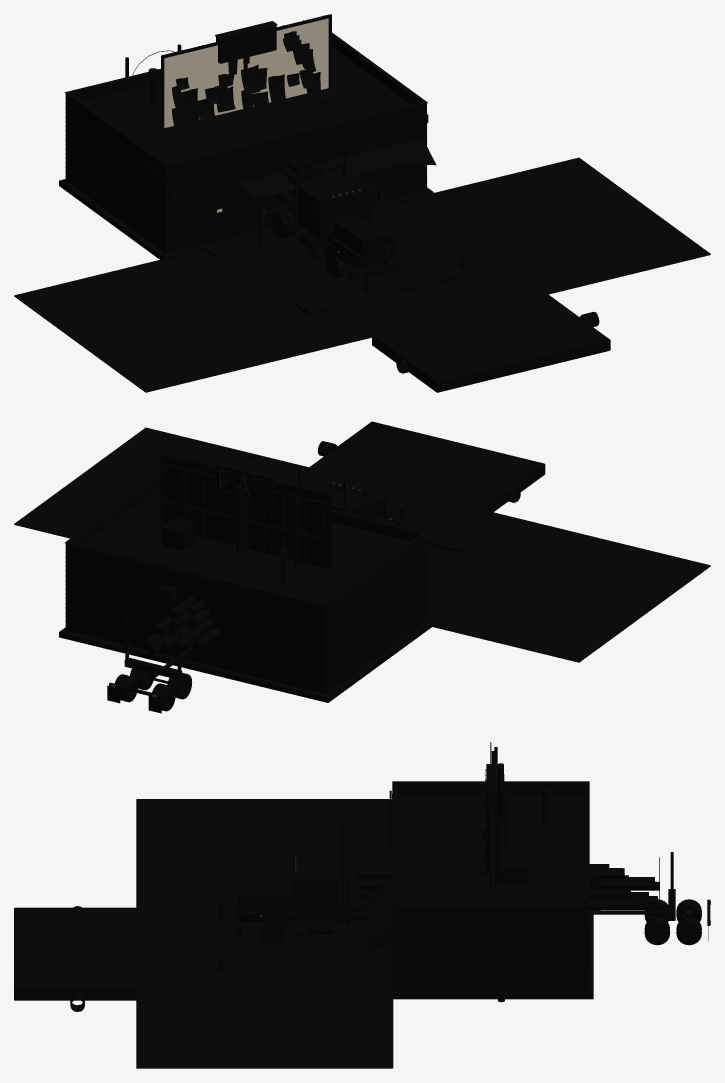
File: props_road.glb
3 views of the same model, one above another, from view 1: azimuth 30°, elevation 25°; view 2: azimuth 150°, elevation 25°; view 3: azimuth 270°, elevation 25° (orthographic). The views are drawn at different scales.
Parts seen in each view (by area): view 1: P_RC9_DINER-diner, P_RC9_TRUCK-logging_truck, P_RC9_BILLBOARD-billboard-face, P_RC9_BILLBOARD-billboard-peel, P_RC9_EAT-eat_sign, P_RC9_BILLBOARD-billboard, P_RC9_TRUCK-logging_truck-logs; view 2: P_RC9_DINER-diner, P_RC9_BILLBOARD-billboard, P_RC9_TRUCK-logging_truck, P_RC9_TRUCK-logging_truck-logs, P_RC9_EAT-eat_sign, P_RC9_TRUCK-logging_truck-axle_5, P_RC9_TRUCK-logging_truck-axle_4; view 3: P_RC9_DINER-diner, P_RC9_TRUCK-logging_truck, P_RC9_TRUCK-logging_truck-logs, P_RC9_BILLBOARD-billboard, P_RC9_TRUCK-logging_truck-axle_5, P_RC9_TRUCK-logging_truck-axle_4, P_RC9_TRUCK-logging_truck-axle_1.
Boxes of the visible parts, <box> form: P_RC9_DINER-diner: <box>14,32,710,392</box>; P_RC9_TRUCK-logging_truck: <box>125,44,403,280</box>; P_RC9_BILLBOARD-billboard-face: <box>164,18,328,127</box>; P_RC9_BILLBOARD-billboard-peel: <box>172,31,320,127</box>; P_RC9_EAT-eat_sign: <box>215,21,277,103</box>; P_RC9_BILLBOARD-billboard: <box>161,14,331,134</box>; P_RC9_TRUCK-logging_truck-logs: <box>273,156,326,208</box>; P_RC9_DINER-diner: <box>14,421,710,702</box>; P_RC9_BILLBOARD-billboard: <box>161,454,331,570</box>; P_RC9_TRUCK-logging_truck: <box>107,469,403,713</box>; P_RC9_TRUCK-logging_truck-logs: <box>142,596,219,655</box>; P_RC9_EAT-eat_sign: <box>215,461,277,549</box>; P_RC9_TRUCK-logging_truck-axle_5: <box>114,674,175,711</box>; P_RC9_TRUCK-logging_truck-axle_4: <box>130,668,192,699</box>; P_RC9_DINER-diner: <box>14,781,600,1068</box>; P_RC9_TRUCK-logging_truck: <box>234,826,710,941</box>; P_RC9_TRUCK-logging_truck-logs: <box>356,863,659,910</box>; P_RC9_BILLBOARD-billboard: <box>461,742,505,1002</box>; P_RC9_TRUCK-logging_truck-axle_5: <box>676,899,701,945</box>; P_RC9_TRUCK-logging_truck-axle_4: <box>644,899,669,945</box>; P_RC9_TRUCK-logging_truck-axle_1: <box>260,911,285,945</box>.
Bounding box in the file's own units: 26 × 8.86 × 28.49.
